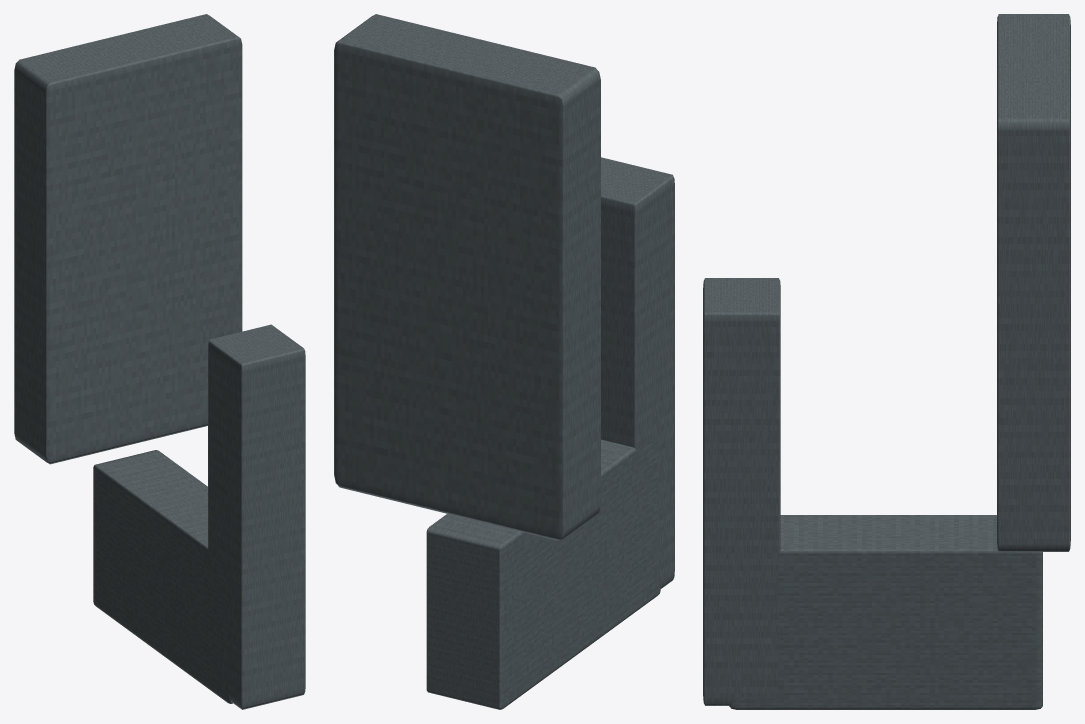
Rendered from extinguisher-bracket.glb.
3 renders of one model, left to right at view 1: azimuth 30°, elevation 25°; view 2: azimuth 150°, elevation 25°; view 3: azimuth 270°, elevation 25°, orthographic. The views are drawn at different scales.
Parts seen in each view (by area): view 1: foot, lip, arm; view 2: foot, arm, lip; view 3: arm, foot, lip.
Part boxes in pixels (<box>): foot: <box>14,14,242,464</box>; lip: <box>208,324,305,709</box>; arm: <box>93,450,232,703</box>; foot: <box>334,14,600,540</box>; arm: <box>426,436,660,709</box>; lip: <box>601,157,674,588</box>; arm: <box>729,515,1042,709</box>; foot: <box>997,14,1070,551</box>; lip: <box>703,278,780,705</box>.
Size of the model in its own units: 0.07 by 0.1872 by 0.0995.
1 material, 1 textured.
